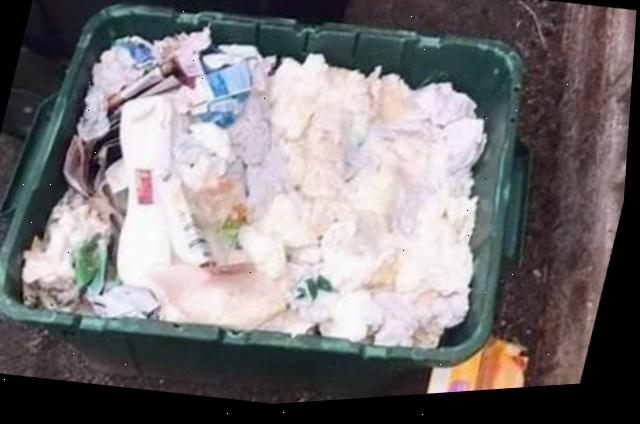Garbage: (4, 15, 493, 357)
